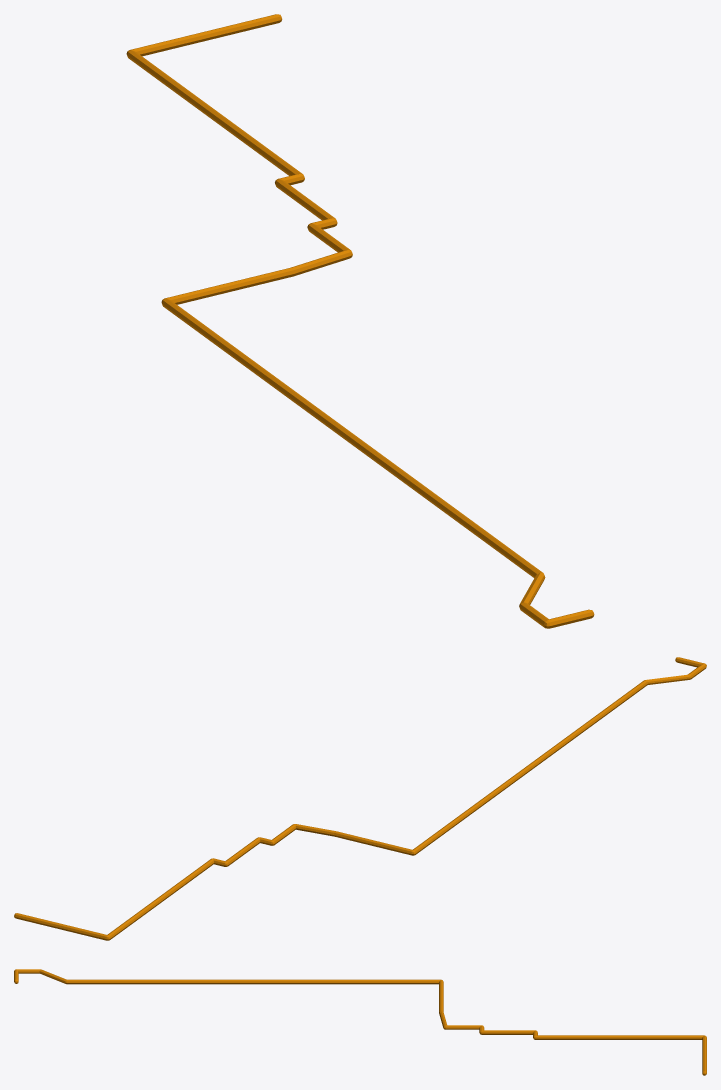
3 views of the same model, one above another, from view 1: azimuth 30°, elevation 25°; view 2: azimuth 150°, elevation 25°; view 3: azimuth 270°, elevation 25° (orthographic). The views are drawn at different scales.
Bounding box in the file's own units: 1019 × 20 × 2868.
